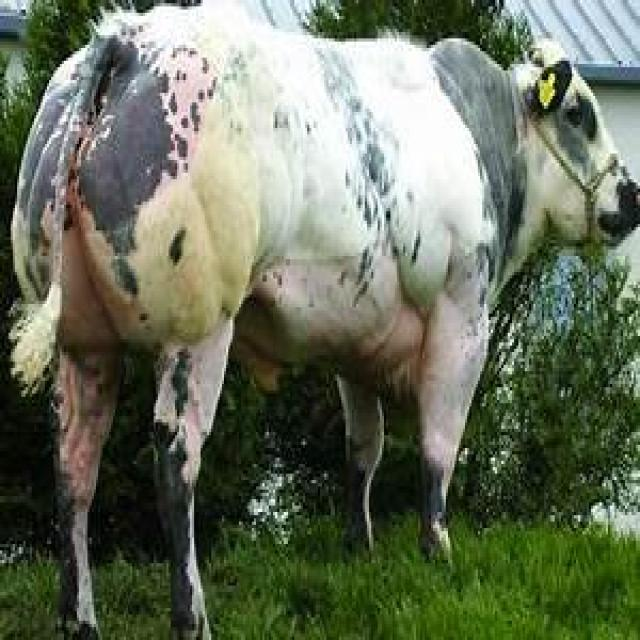cow: (6, 3, 636, 640)
